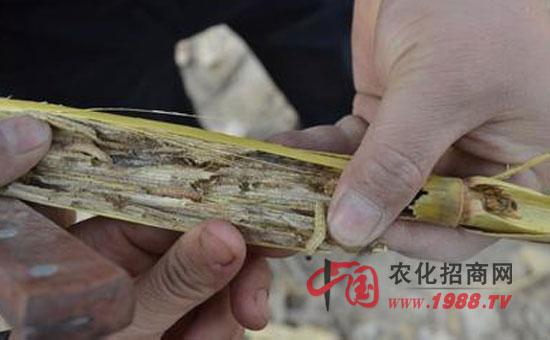pest: (296, 182, 337, 263)
